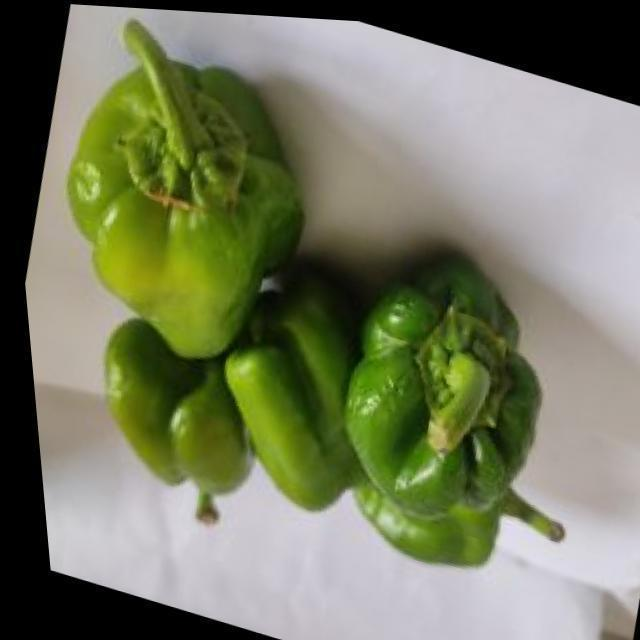Pepper: (66, 23, 304, 362), (341, 269, 556, 570), (219, 264, 386, 513), (102, 320, 254, 515)
